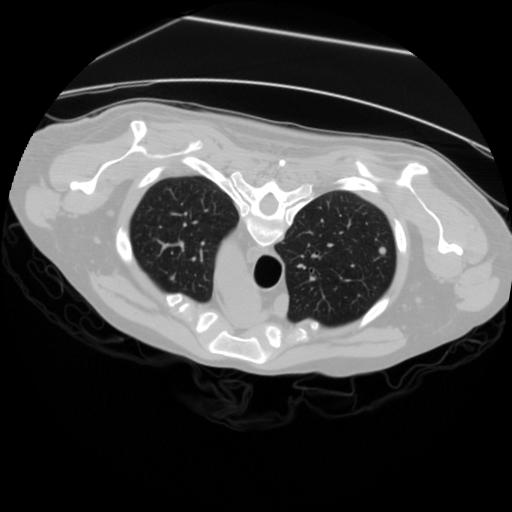nodule: (376, 244, 392, 260)
